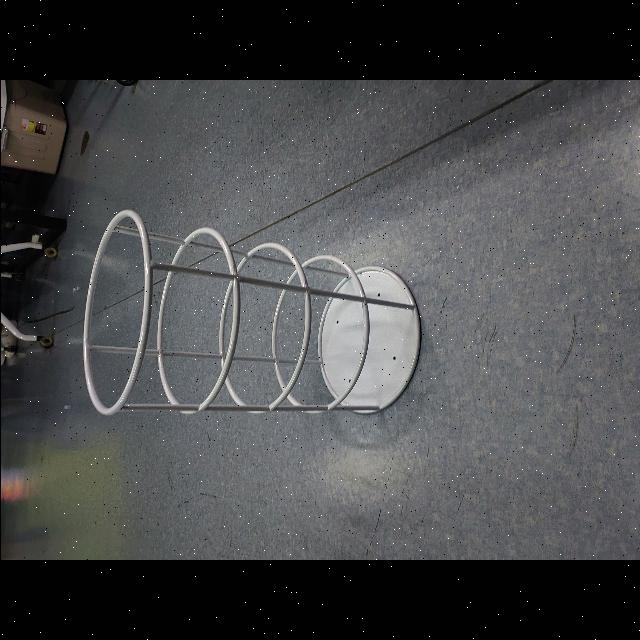S: (78, 204, 426, 424)
